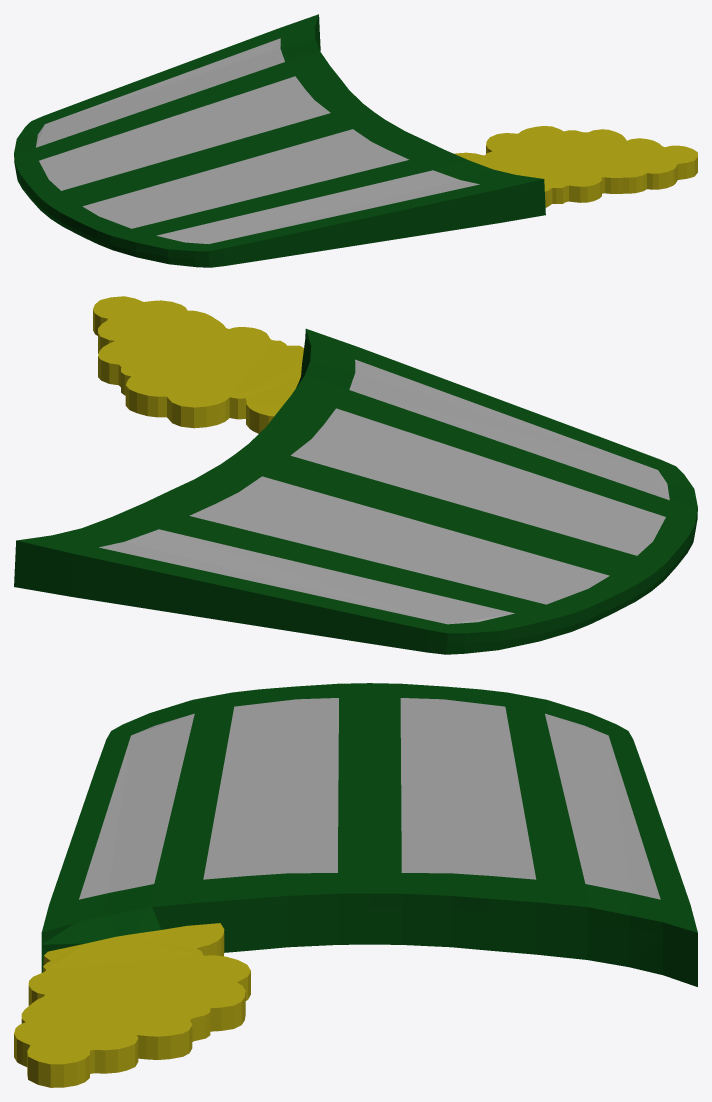
The model's file is badPopcorn.dae.
The picture shows the model from 3 angles, top to bottom: view 1: azimuth 30°, elevation 25°; view 2: azimuth 150°, elevation 25°; view 3: azimuth 270°, elevation 25°; orthographic projection. The views are drawn at different scales.
Visible parts, largest first — view 1: badPopcorn; view 2: badPopcorn; view 3: badPopcorn.
Part boxes in pixels (x1,y1,x2,y2): badPopcorn: (14, 14, 697, 267); badPopcorn: (14, 296, 697, 654); badPopcorn: (14, 683, 697, 1087).
Size of the model in its own units: 2.04 by 0.1321 by 1.54.
